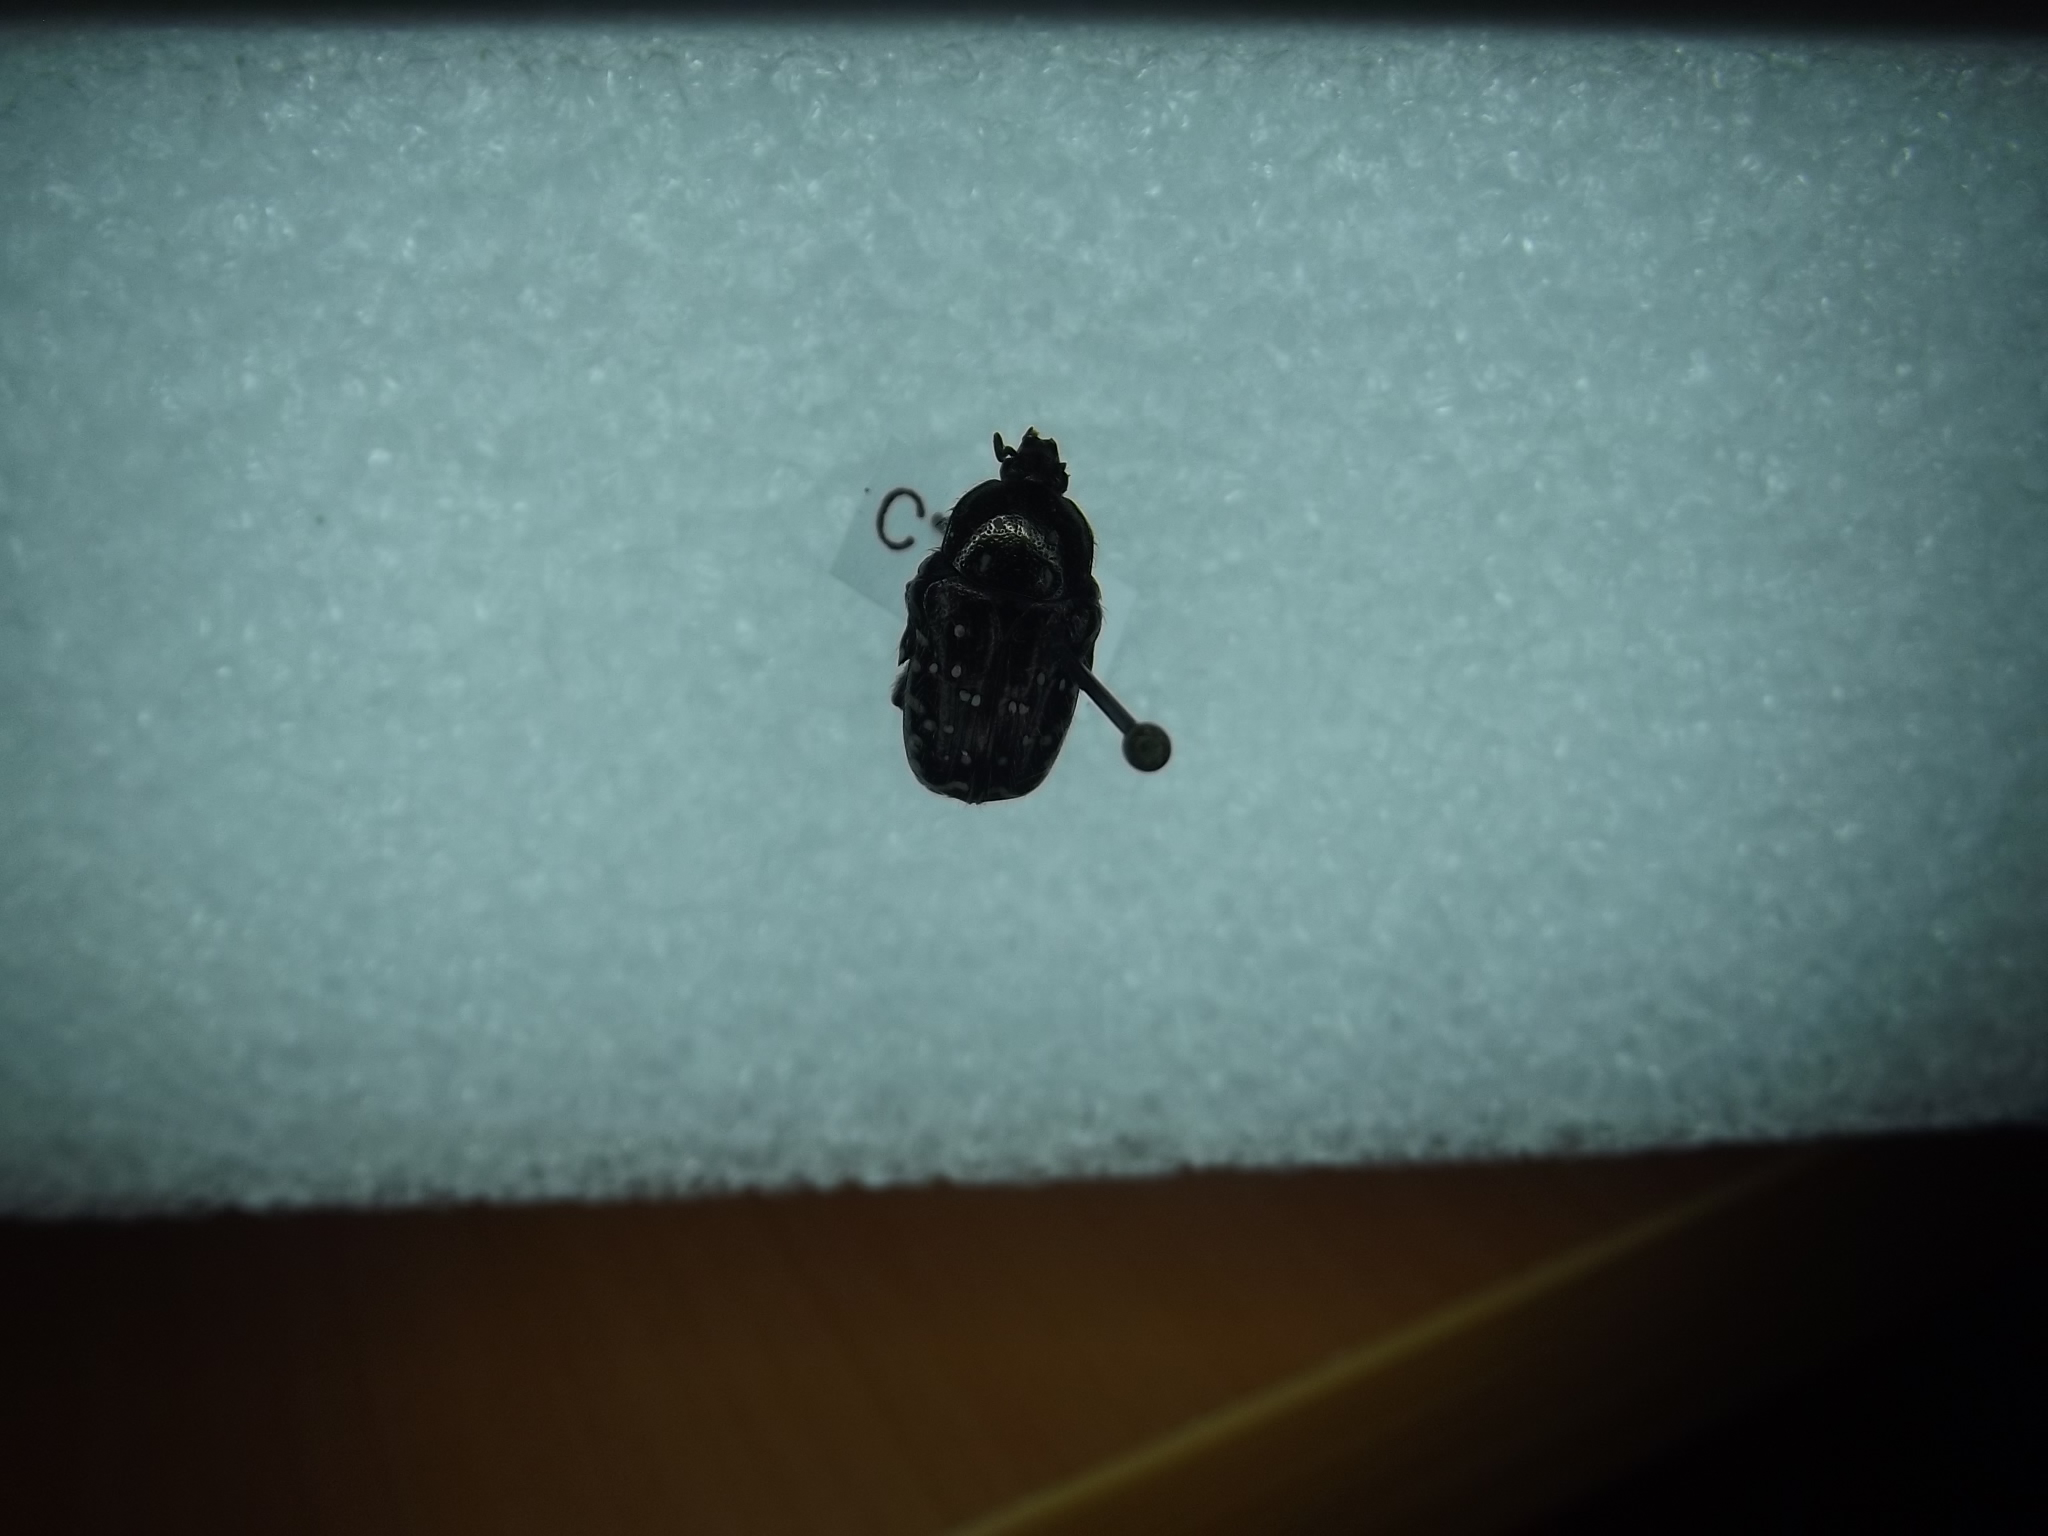Oxythyrea_funesta: (880, 399, 1118, 833)
